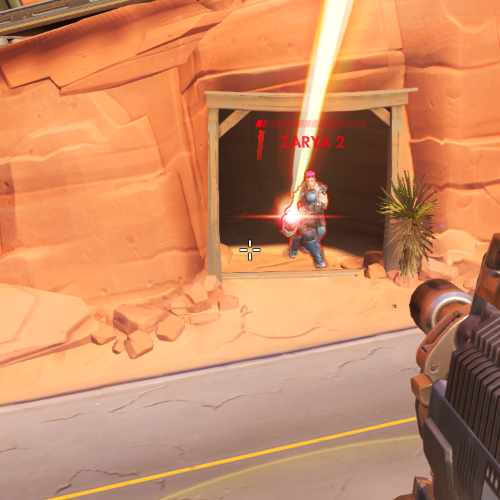hpbar: (255, 119, 368, 128)
